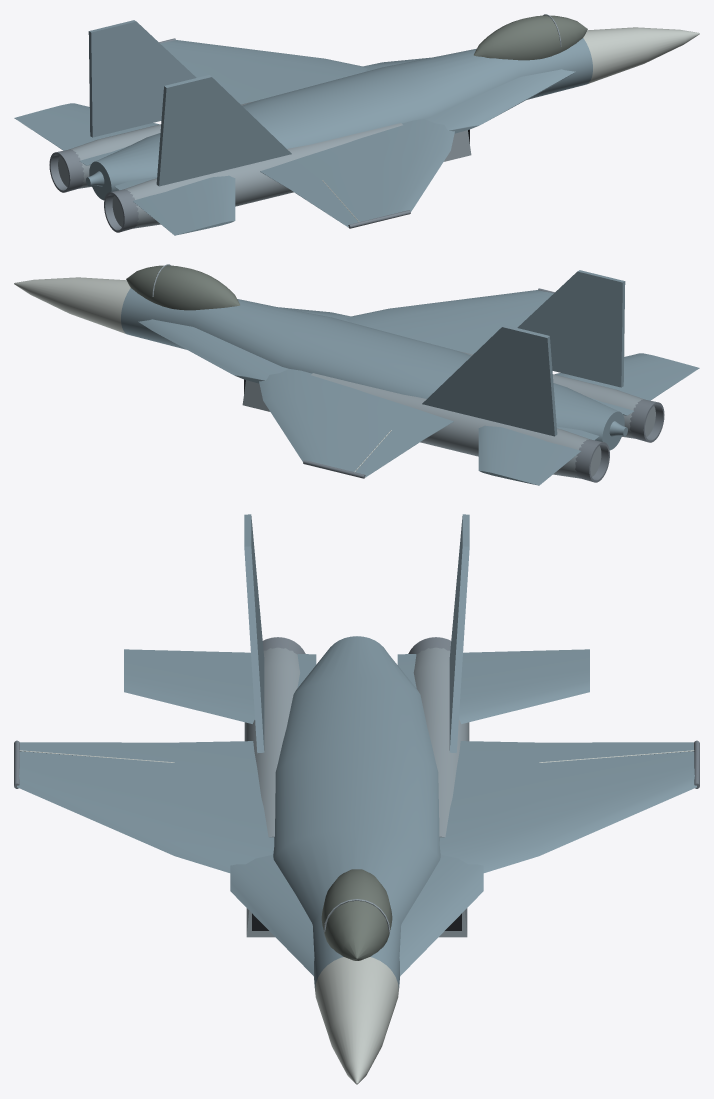
The model's file is rfn_fighter_su35s.glb.
The picture shows the model from 3 angles, top to bottom: view 1: azimuth 30°, elevation 25°; view 2: azimuth 150°, elevation 25°; view 3: azimuth 270°, elevation 25°; orthographic projection. The views are drawn at different scales.
Visible parts, largest first — view 1: airframe_blue, airframe, array_face, canopy_gold, titanium; view 2: airframe_blue, airframe, array_face, canopy_gold, titanium; view 3: airframe_blue, airframe, array_face, canopy_gold, titanium.
Part boxes in pixels (x1=…): airframe_blue: x1=14, y1=20, x2=592, y2=235; airframe: x1=58, y1=14, x2=561, y2=228; array_face: x1=322, y1=27, x2=699, y2=222; canopy_gold: x1=474, y1=15, x2=587, y2=60; titanium: x1=49, y1=38, x2=410, y2=232; airframe_blue: x1=121, y1=270, x2=699, y2=485; airframe: x1=152, y1=264, x2=655, y2=478; array_face: x1=14, y1=277, x2=391, y2=472; canopy_gold: x1=126, y1=265, x2=239, y2=310; titanium: x1=303, y1=288, x2=664, y2=482; airframe_blue: x1=17, y1=514, x2=696, y2=989; airframe: x1=244, y1=647, x2=469, y2=937; array_face: x1=19, y1=750, x2=694, y2=1084; canopy_gold: x1=321, y1=869, x2=392, y2=960; titanium: x1=14, y1=637, x2=699, y2=788.
Bounding box in the file's own units: 10 × 2.25 × 6.69.
